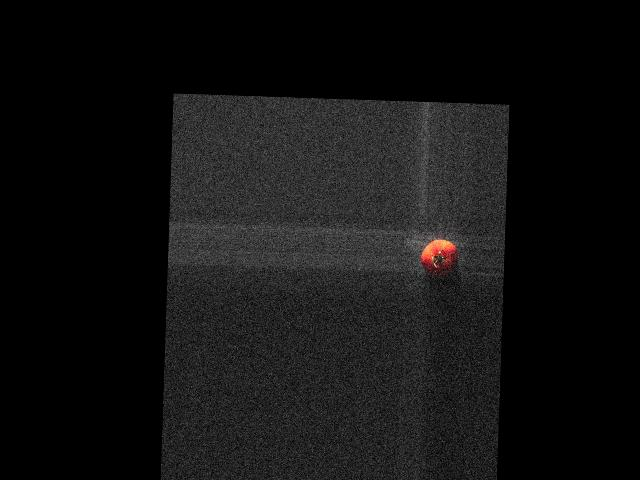tomato: (420, 238, 458, 277)
